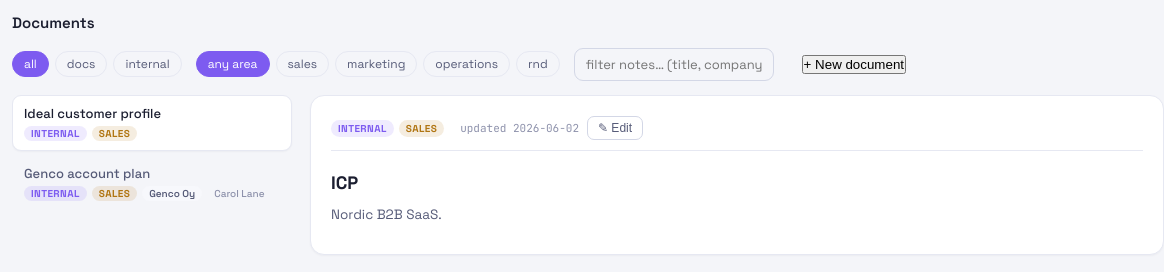
it: Documents view › clicking a document swaps the reading pane
The image size is (1164, 272).
Click the text "Genco account plan": (87,174) [24, 165, 150, 182]
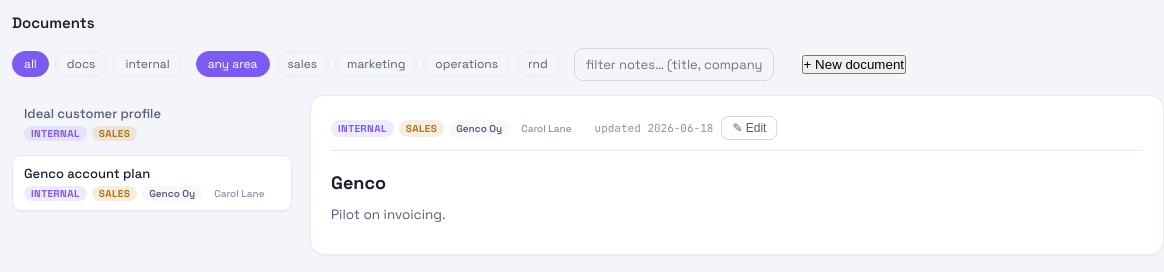
Now the text "Pilot on invoicing." is shown, box [331, 206, 445, 223]
